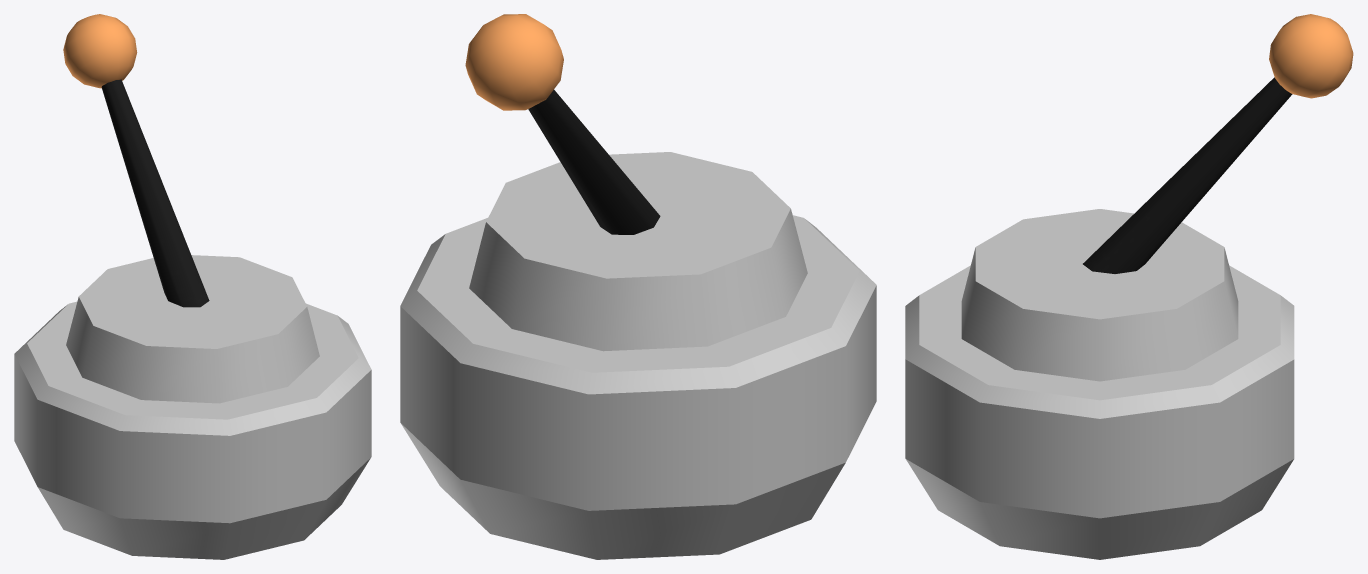
File: YK_Radar.obj
3 renders of one model, left to right at view 1: azimuth 30°, elevation 25°; view 2: azimuth 150°, elevation 25°; view 3: azimuth 270°, elevation 25°, orthographic. The views are drawn at different scales.
Visible parts, largest first — view 1: NurbsPath.000_NurbsPath.000_NurbsPath.000_NurbsPath.002, BF_Block_111.000_BF_Block_111.017; view 2: NurbsPath.000_NurbsPath.000_NurbsPath.000_NurbsPath.002, BF_Block_111.000_BF_Block_111.017; view 3: NurbsPath.000_NurbsPath.000_NurbsPath.000_NurbsPath.002, BF_Block_111.000_BF_Block_111.017.
Part boxes in pixels (bbox=[...]): NurbsPath.000_NurbsPath.000_NurbsPath.000_NurbsPath.002: bbox=[14, 255, 371, 559]; BF_Block_111.000_BF_Block_111.017: bbox=[63, 14, 209, 307]; NurbsPath.000_NurbsPath.000_NurbsPath.000_NurbsPath.002: bbox=[400, 152, 876, 559]; BF_Block_111.000_BF_Block_111.017: bbox=[465, 14, 660, 234]; NurbsPath.000_NurbsPath.000_NurbsPath.000_NurbsPath.002: bbox=[905, 209, 1294, 559]; BF_Block_111.000_BF_Block_111.017: bbox=[1083, 14, 1353, 273].
Bounding box in the file's own units: 0.6624 × 0.9399 × 0.7255.
